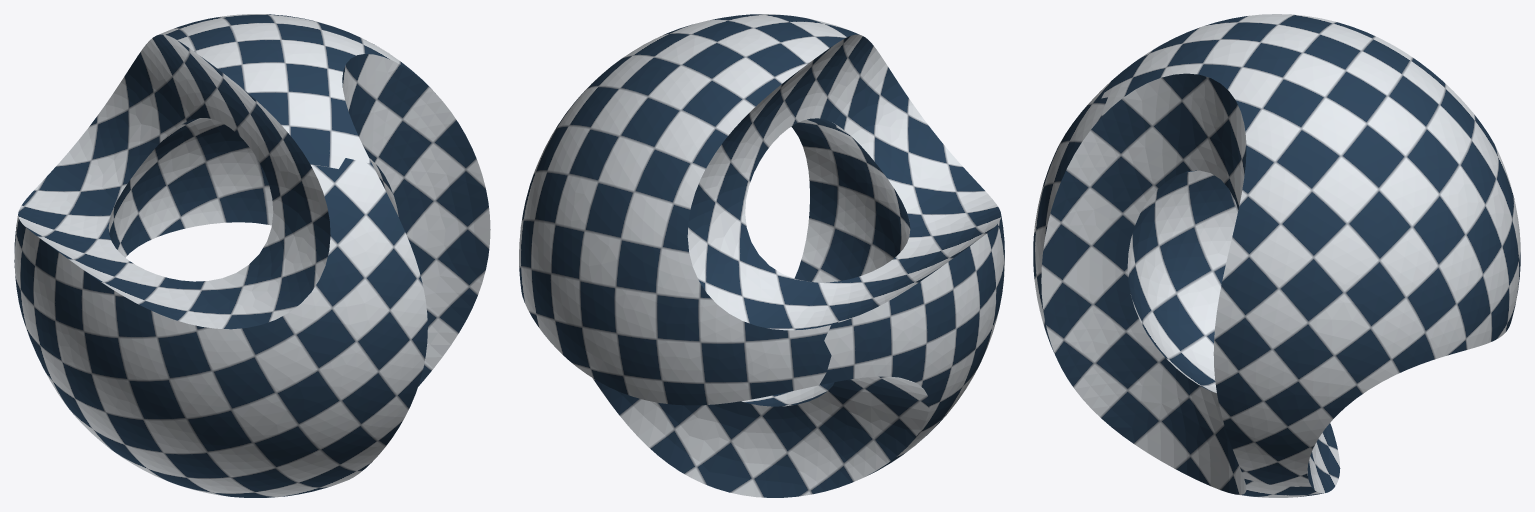
The model's file is packed.obj.
The picture shows the model from 3 angles, left to right: view 1: azimuth 30°, elevation 25°; view 2: azimuth 150°, elevation 25°; view 3: azimuth 270°, elevation 25°; orthographic projection.
Parts seen in each view (by area): view 1: chart_5, chart_0, chart_2, chart_4, chart_1; view 2: chart_4, chart_0, chart_3, chart_5, chart_1; view 3: chart_4, chart_2, chart_1, chart_5, chart_3.
Part boxes in pixels (bbox=[...]): chart_5: bbox=[14, 158, 427, 497]; chart_0: bbox=[18, 34, 330, 329]; chart_2: bbox=[342, 54, 490, 386]; chart_4: bbox=[158, 14, 432, 168]; chart_1: bbox=[108, 118, 398, 257]; chart_4: bbox=[519, 14, 859, 405]; chart_0: bbox=[687, 34, 1001, 330]; chart_3: bbox=[592, 376, 929, 497]; chart_5: bbox=[819, 216, 1004, 480]; chart_1: bbox=[742, 118, 910, 406]; chart_4: bbox=[1101, 14, 1520, 486]; chart_2: bbox=[1041, 73, 1246, 494]; chart_1: bbox=[1127, 170, 1238, 392]; chart_5: bbox=[1033, 81, 1323, 497]; chart_3: bbox=[1307, 423, 1340, 493].
Bounding box in the file's own units: 1 × 1 × 0.9999.
Materials: 1 (1 with a texture image).
